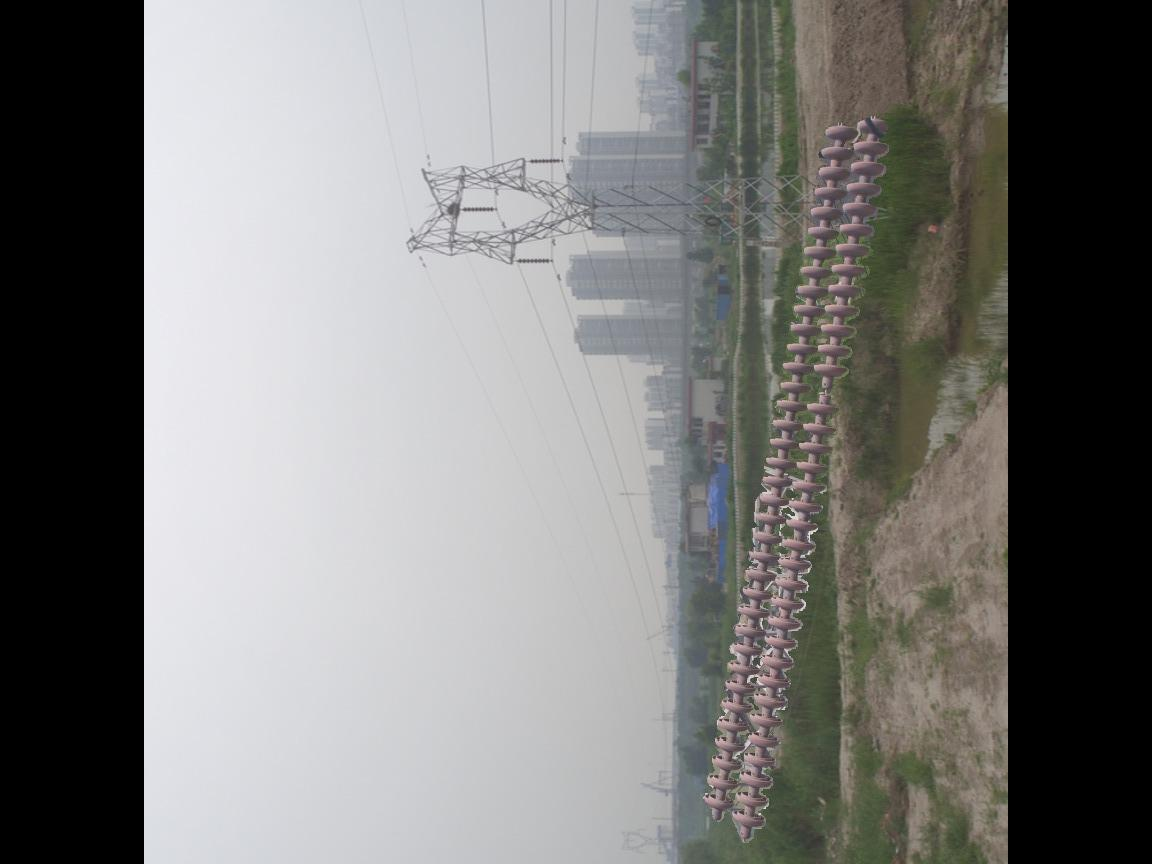insulator: (698, 109, 895, 842)
insulator_stringdrop: (805, 358, 853, 417)
